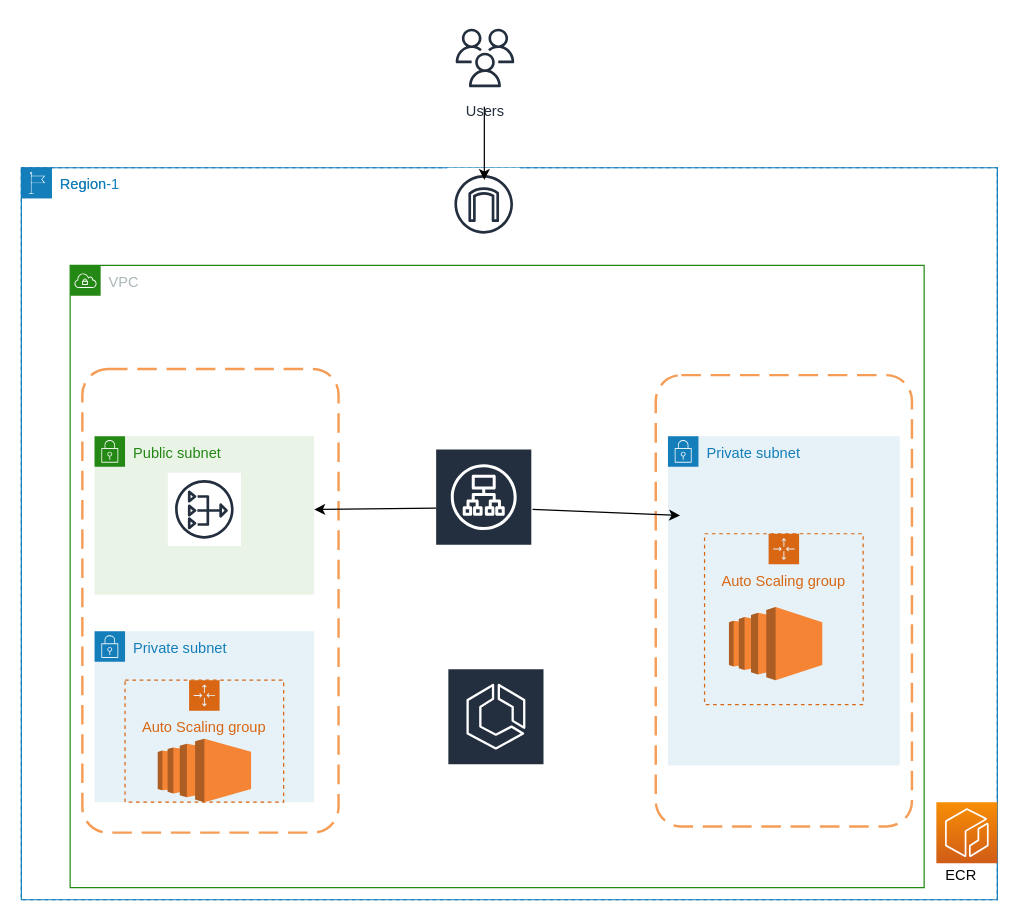
The diagram is 1019 pixels wide and 921 high, and some of its shapes have lost their labels. Here are the shapes that lost their labels. From the top down, the centre of each, then its label:
At [483,204]: "Internet gateway".
At [204,509]: "NAT gateway".
At [483,515]: "Application Load Balancer".
At [495,728]: "Amazon ECS".
